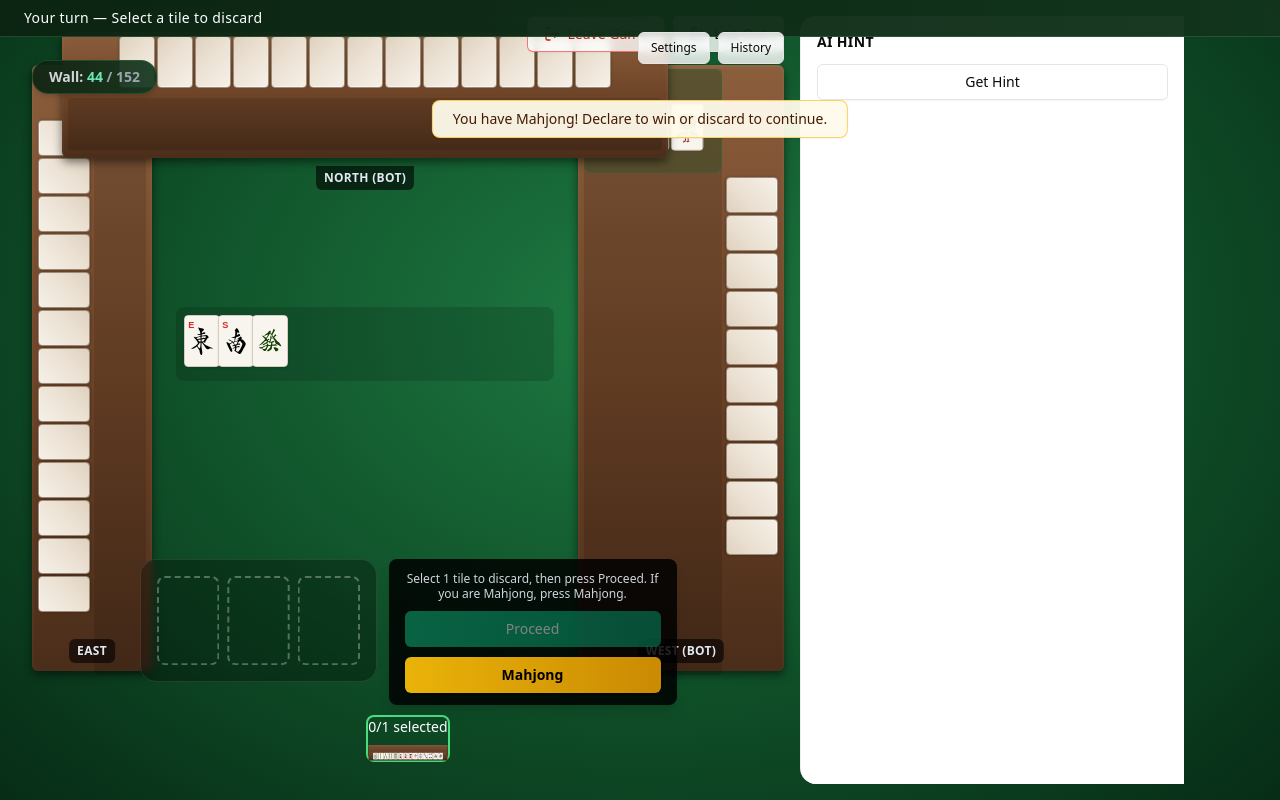
it: US-055: Right Rail Hint Flow (Integration) › preserves a loaded hint in historical view but blocks new requests
This screenshot has width=1280, height=800.
Click the button with test id "get-hint-button" at [992, 82], box 817,64 -> 1168,100
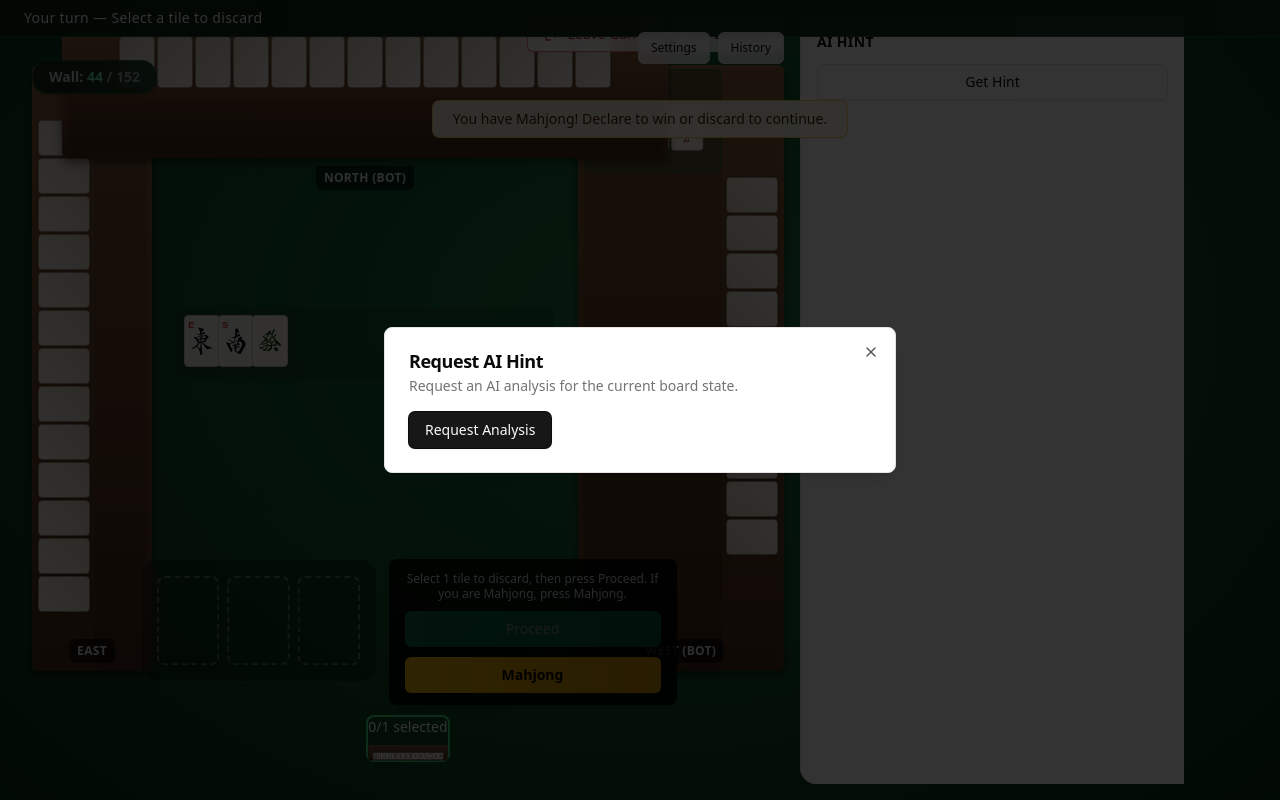
Click the button with test id "request-analysis-button" at [480, 430], box 409,412 -> 551,448
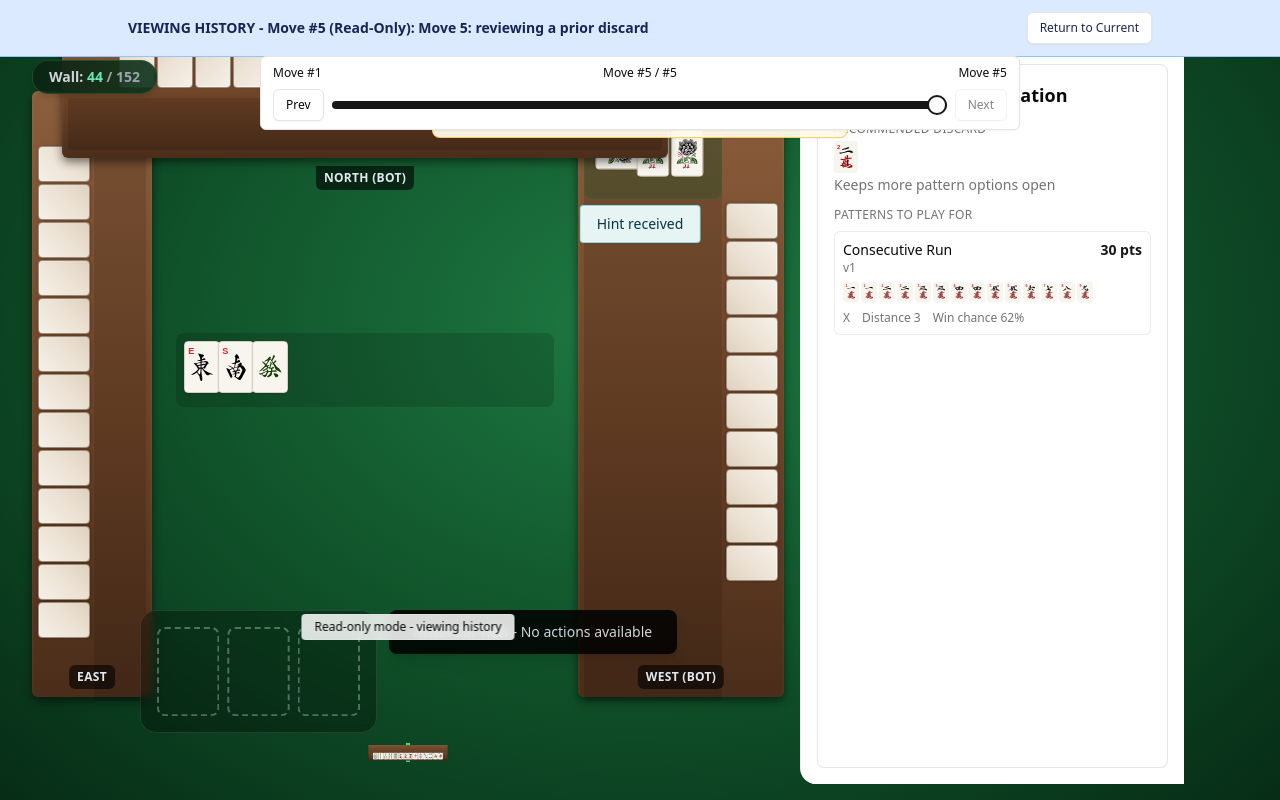
Expected: the header with test id "historical-view-banner" is shown, 0,0 -> 1279,57
Expected: the element with test id "hint-panel" is shown, 817,64 -> 1168,768
Expected: the button with test id "get-hint-button" is gone
